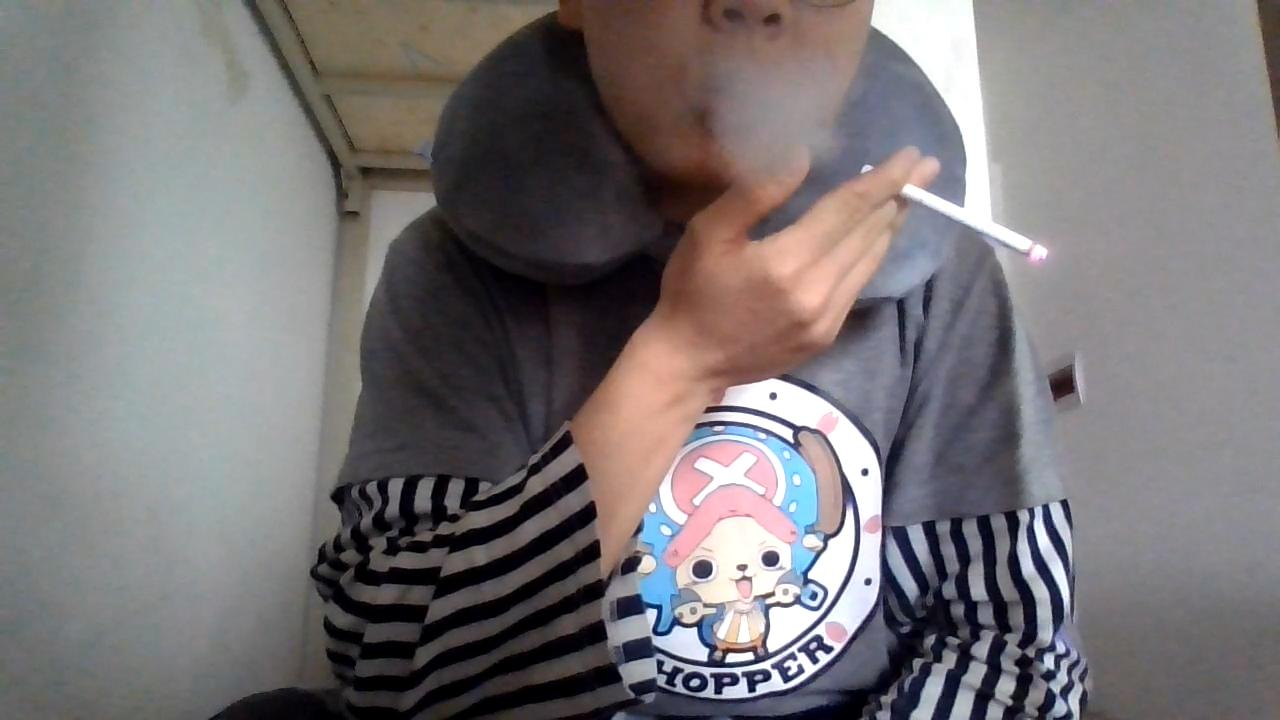smoke: (714, 54, 853, 180), (1006, 230, 1047, 269)
